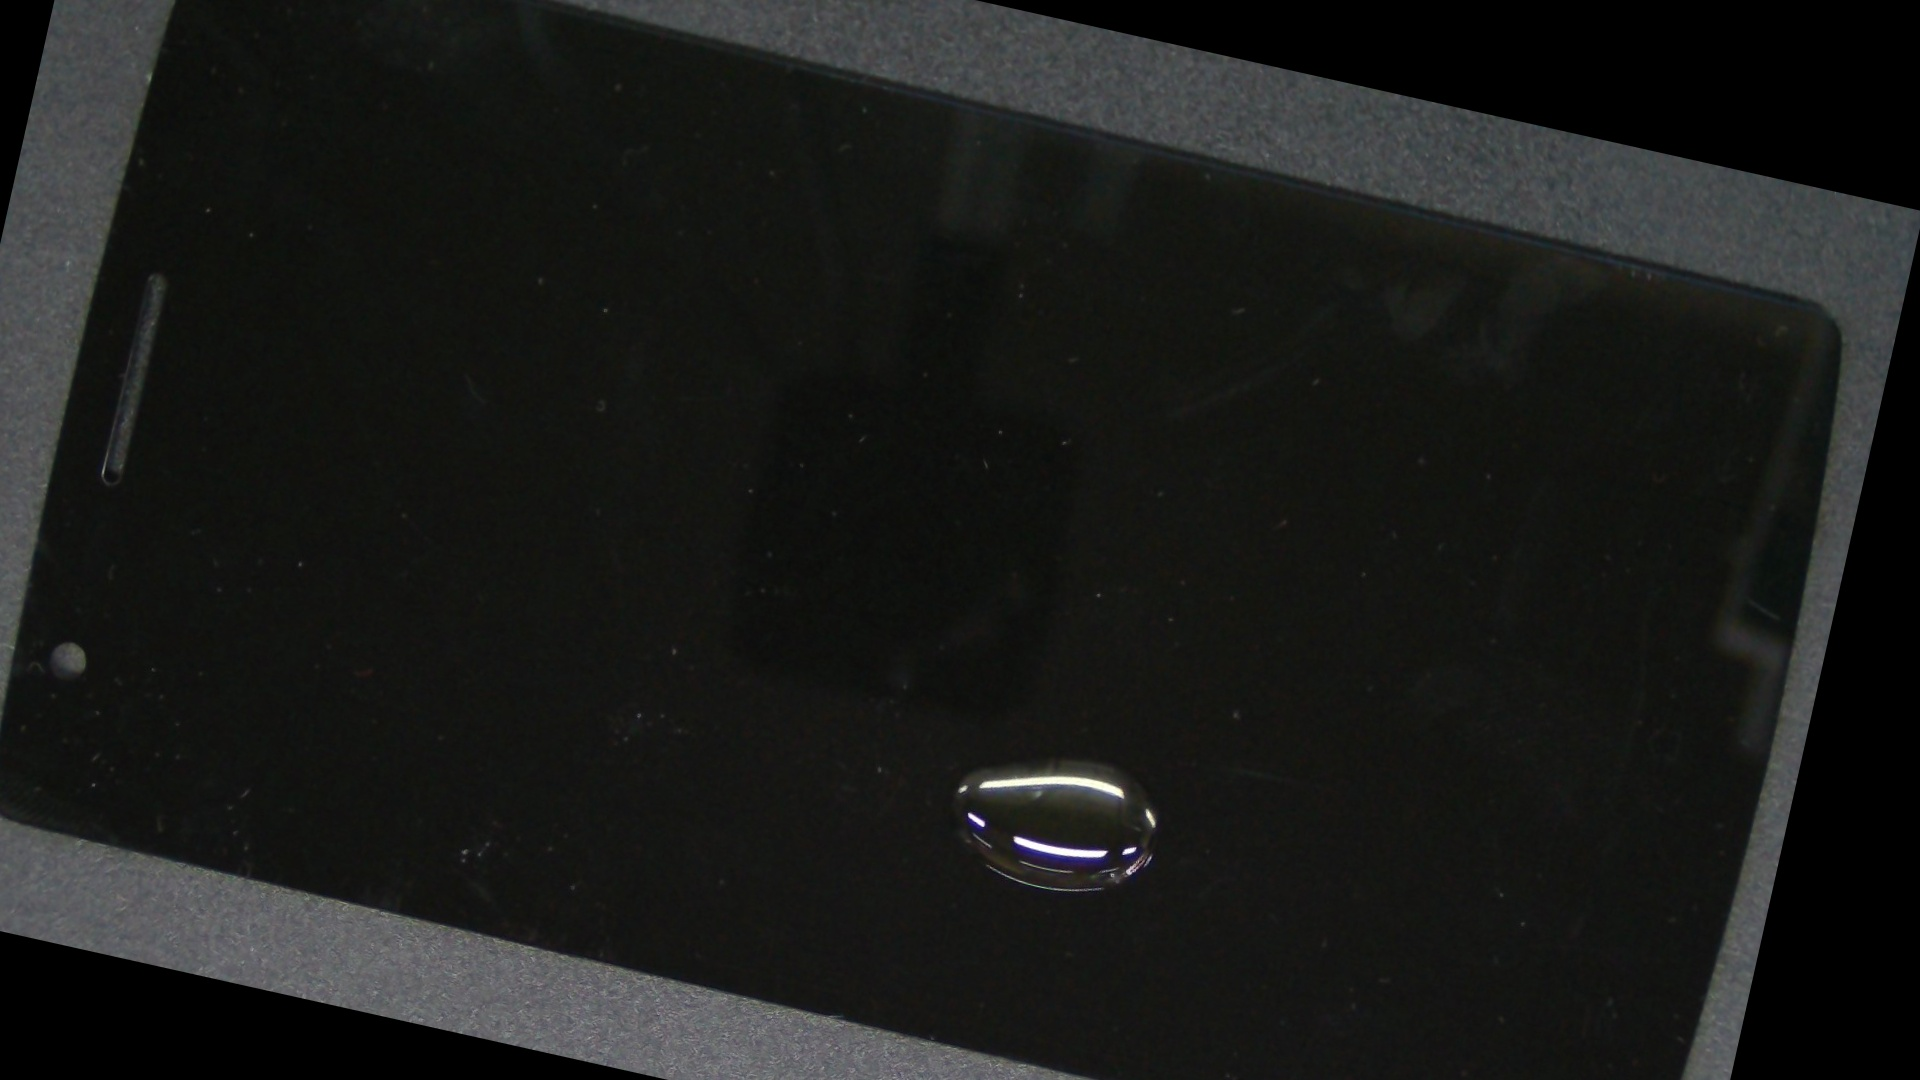oil: (444, 284, 1759, 1080)
